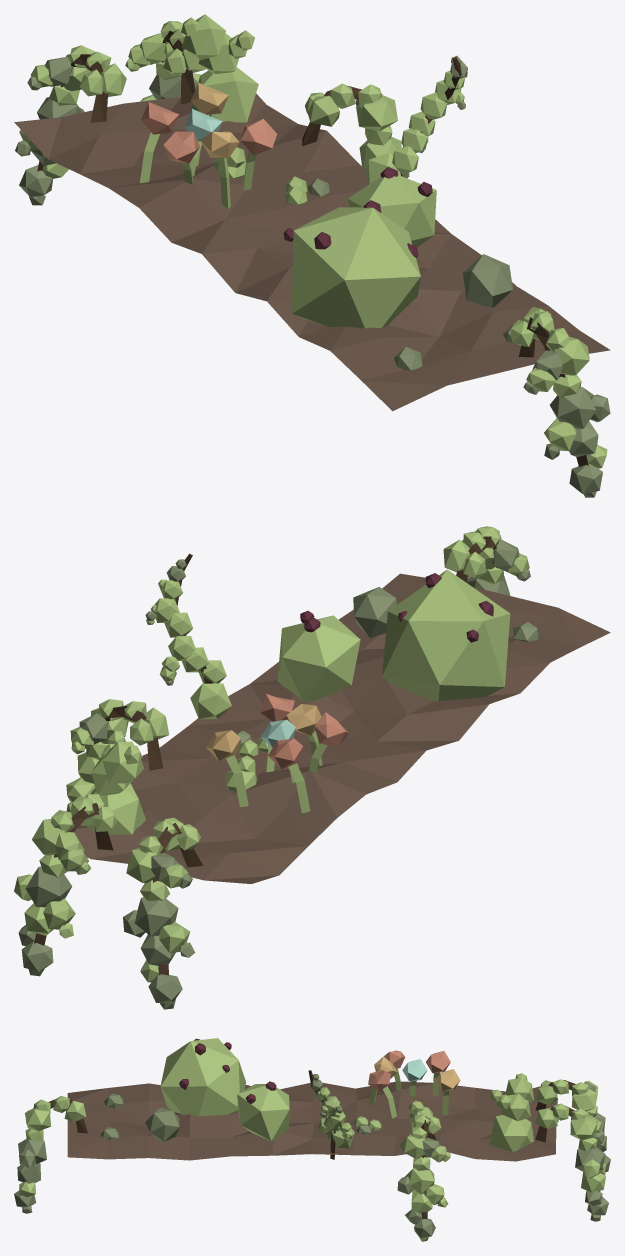
Rendered from PlanterBox_DeepCrate.fbx.
3 views of the same model, one above another, from view 1: azimuth 30°, elevation 25°; view 2: azimuth 150°, elevation 25°; view 3: azimuth 270°, elevation 25° (orthographic). The views are drawn at different scales.
Parts seen in each view (by area): view 1: Plants, Dirt; view 2: Plants, Dirt; view 3: Plants, Dirt.
Boxes of the visible parts, bbox=[...] form: Plants: bbox=[15, 14, 610, 497]; Dirt: bbox=[14, 93, 610, 411]; Plants: bbox=[14, 526, 539, 1009]; Dirt: bbox=[74, 573, 610, 883]; Plants: bbox=[14, 1038, 610, 1241]; Dirt: bbox=[67, 1081, 557, 1161].
Bounding box in the file's own units: 121 × 105 × 333.
